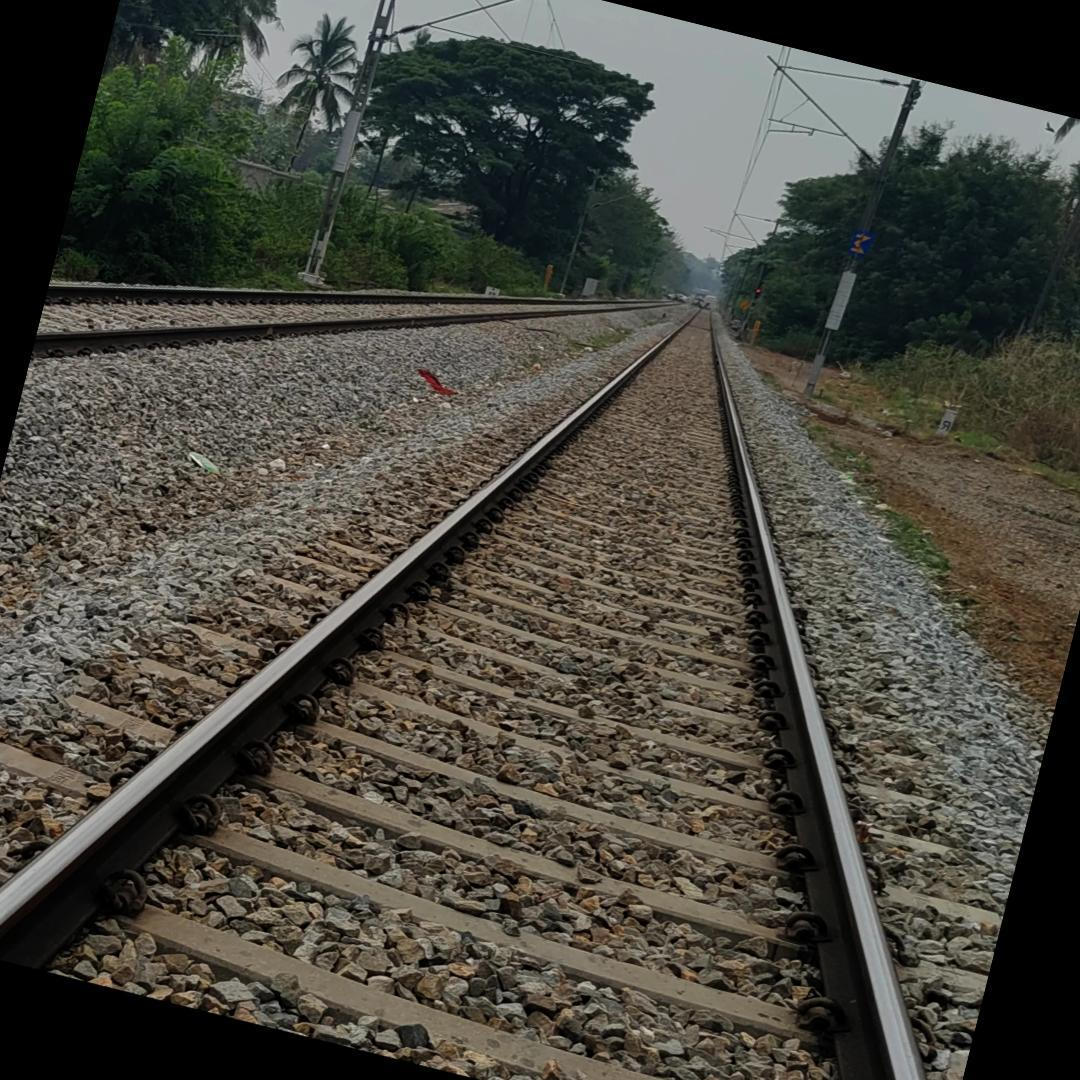track: (0, 280, 943, 1080)
